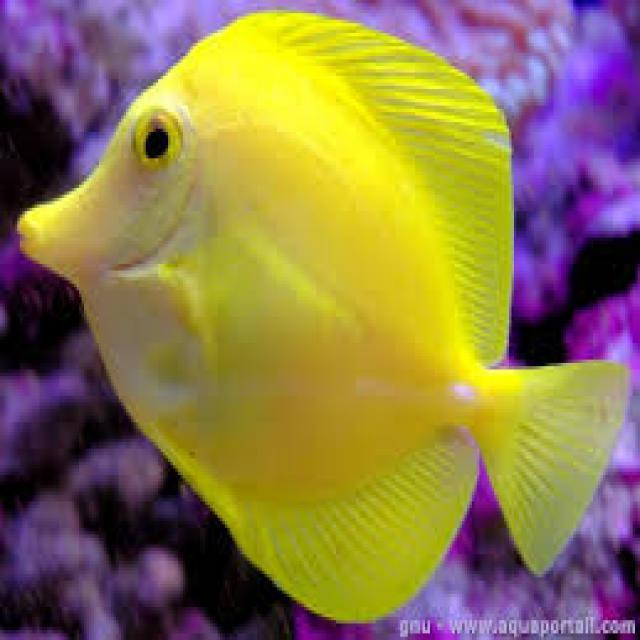YellowTang: (6, 0, 632, 624)
